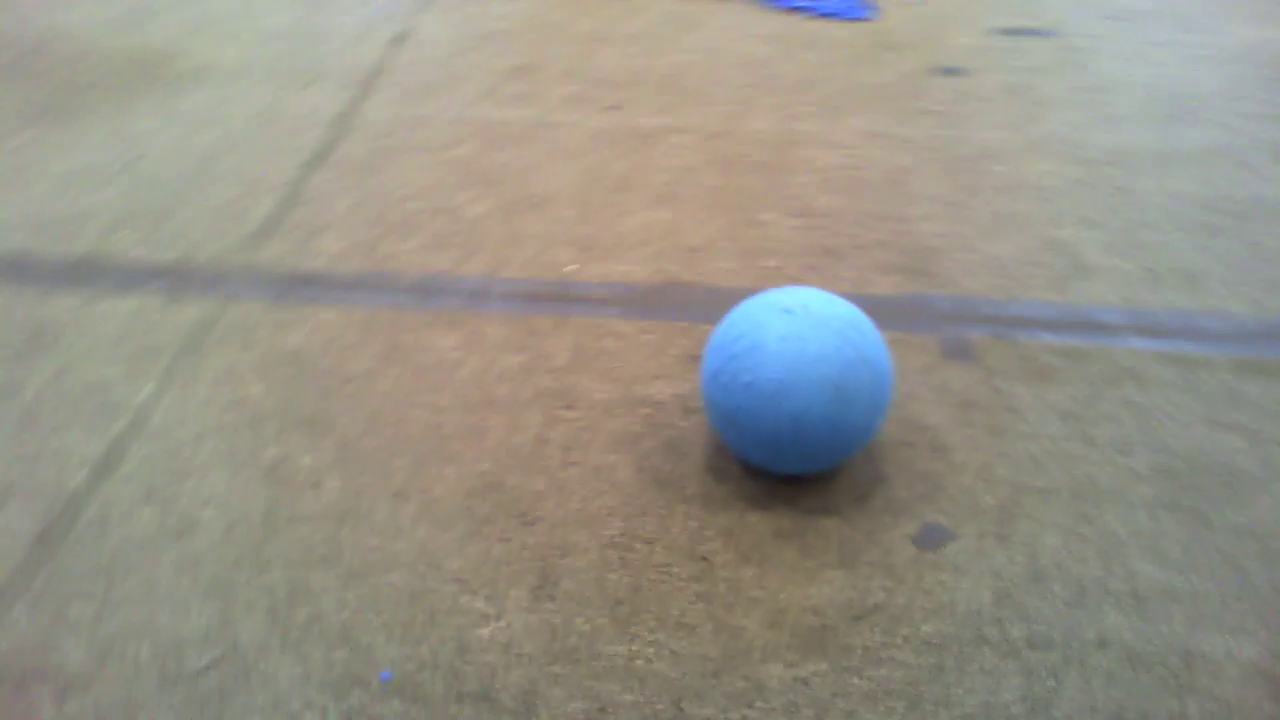blue_cargo: (689, 277, 903, 474)
